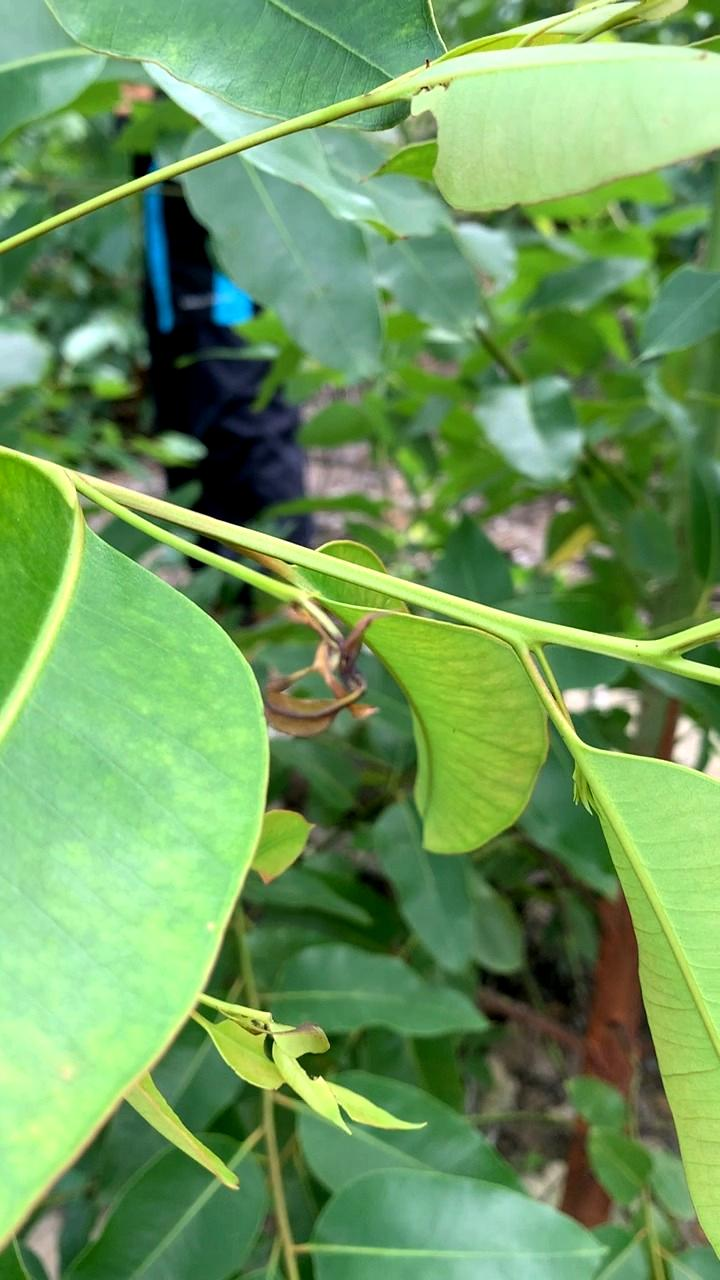Helopeltis-Withered Sprout: (263, 606, 383, 757)
